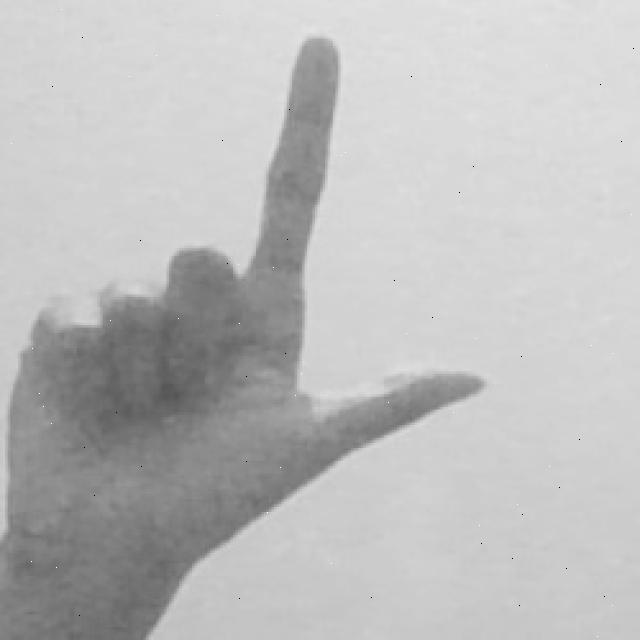L: (0, 33, 494, 640)
